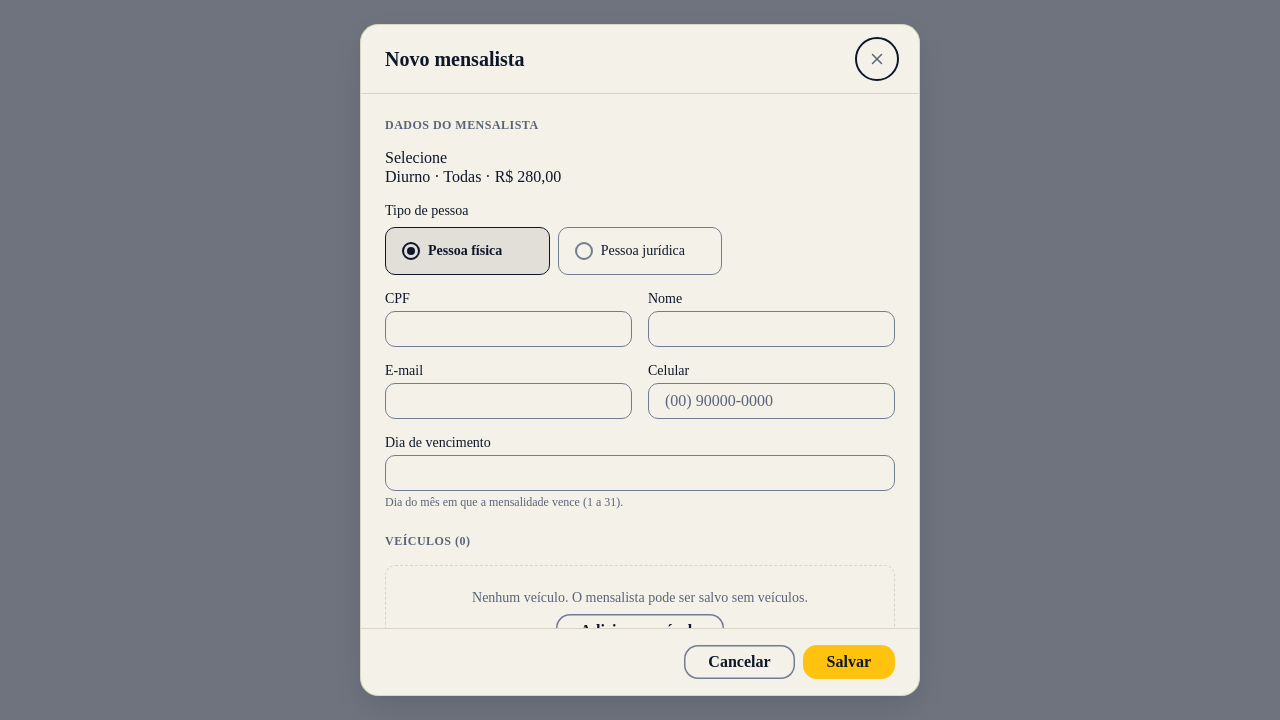
Test: MensalistaModal › trocar para pessoa jurídica limpa o documento e aceita CNPJ alfanumérico
Check: the option "Diurno" is shown, box [385, 168, 895, 187]
Type "52998224725" into the field labelled "CPF" at (508, 329), box [385, 311, 632, 347]
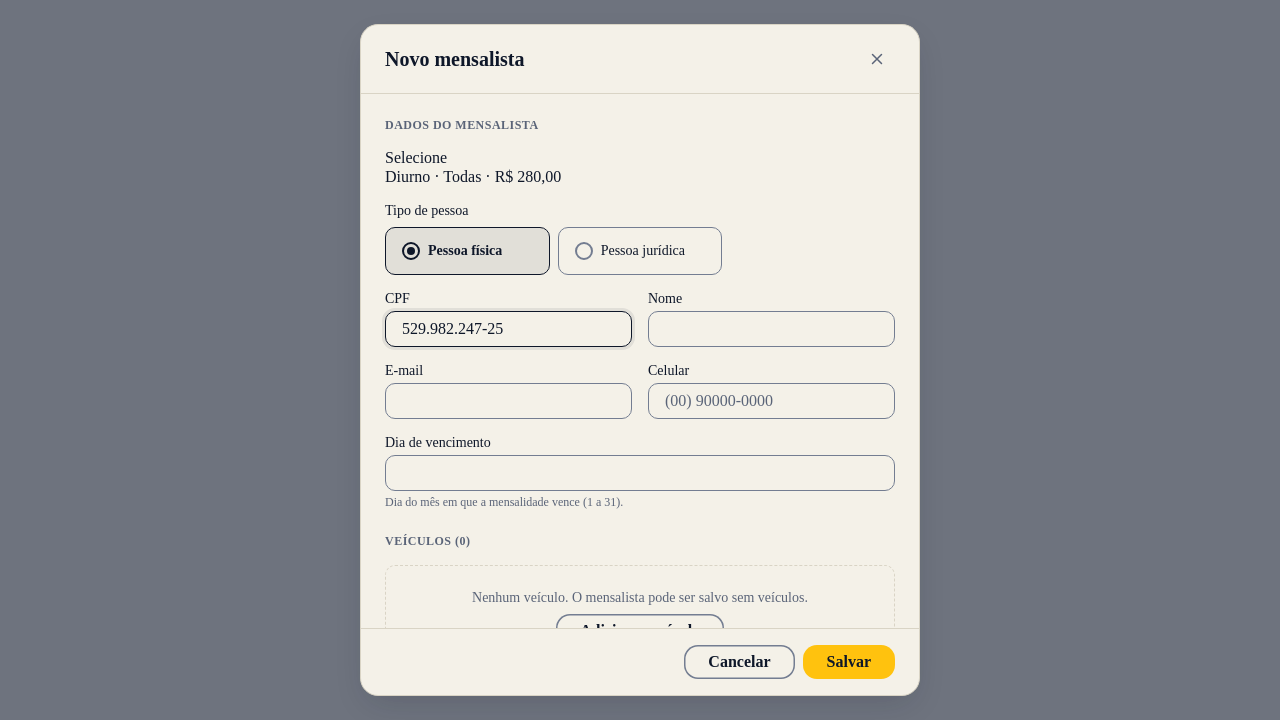
Click the radio button labelled "Pessoa jurídica" at (640, 251), box [558, 227, 722, 275]
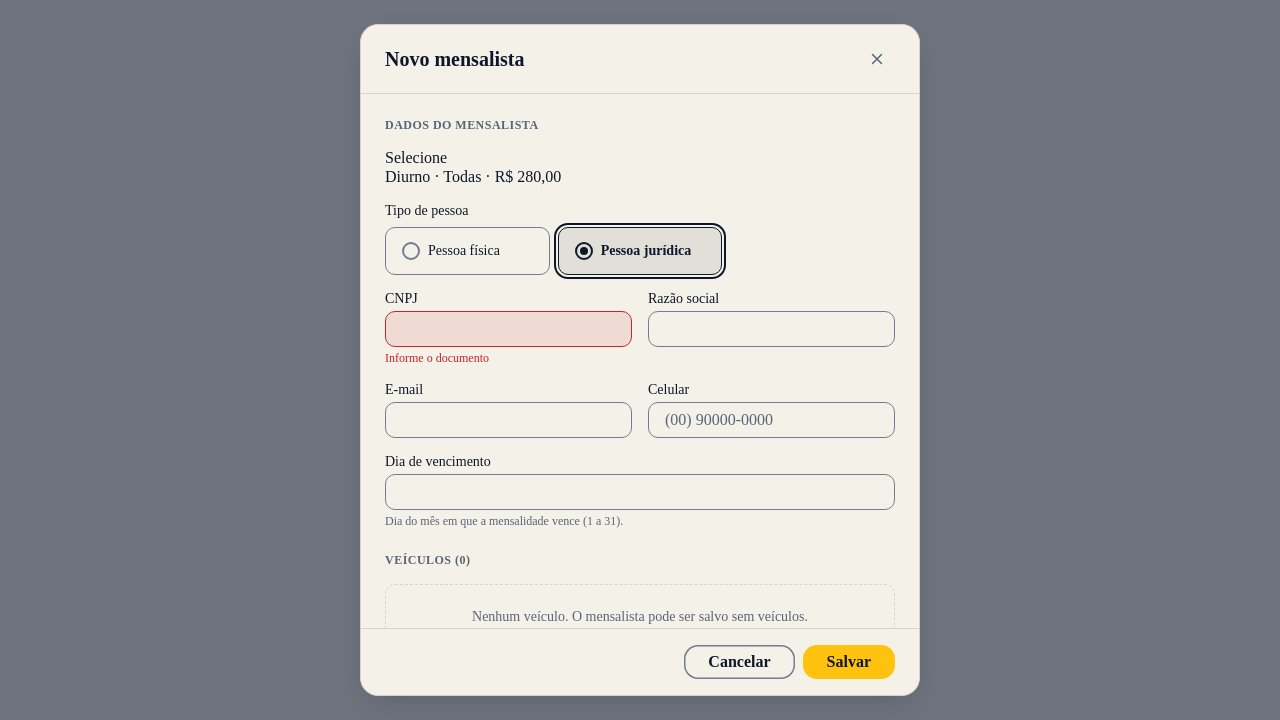
Check: the field labelled "CNPJ" is empty
Type "12abc34501de35" into the field labelled "CNPJ" at (508, 329), box [385, 311, 632, 347]
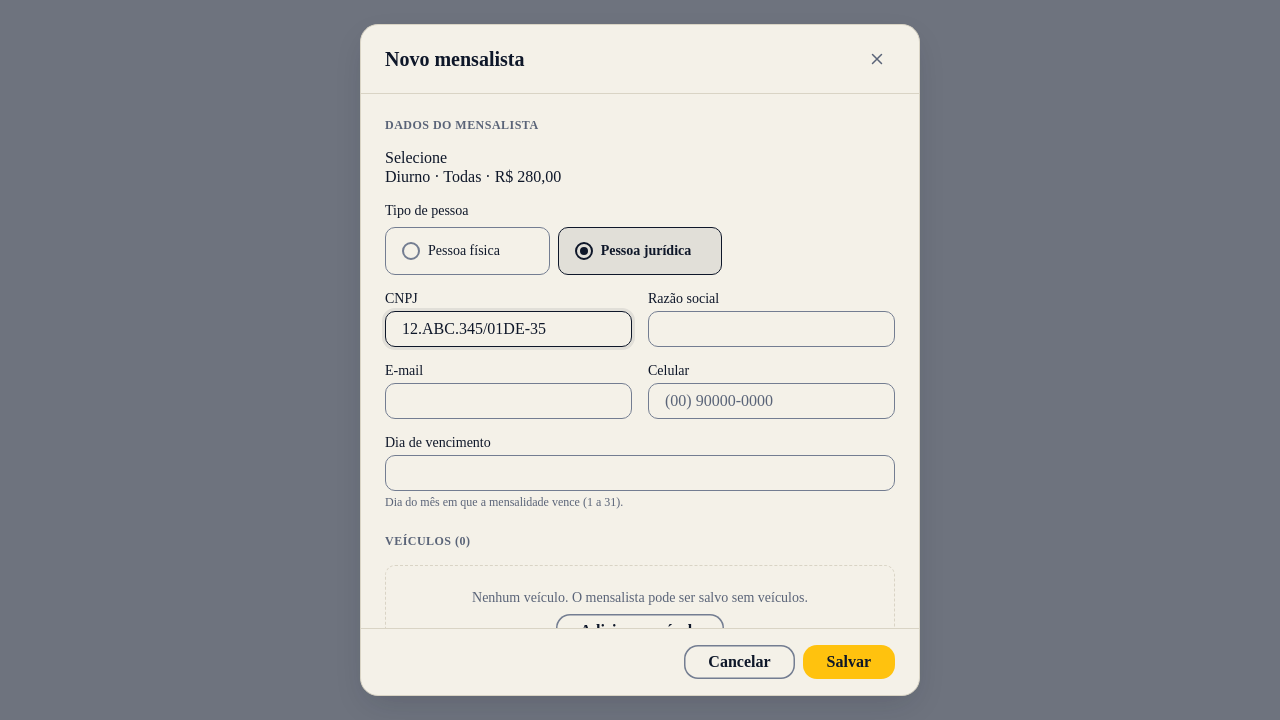
Check: the field labelled "Razão social" is shown, box [648, 311, 895, 347]
Check: the field labelled "CNPJ" holds "12.ABC.345/01DE-35", box [385, 311, 632, 347]
